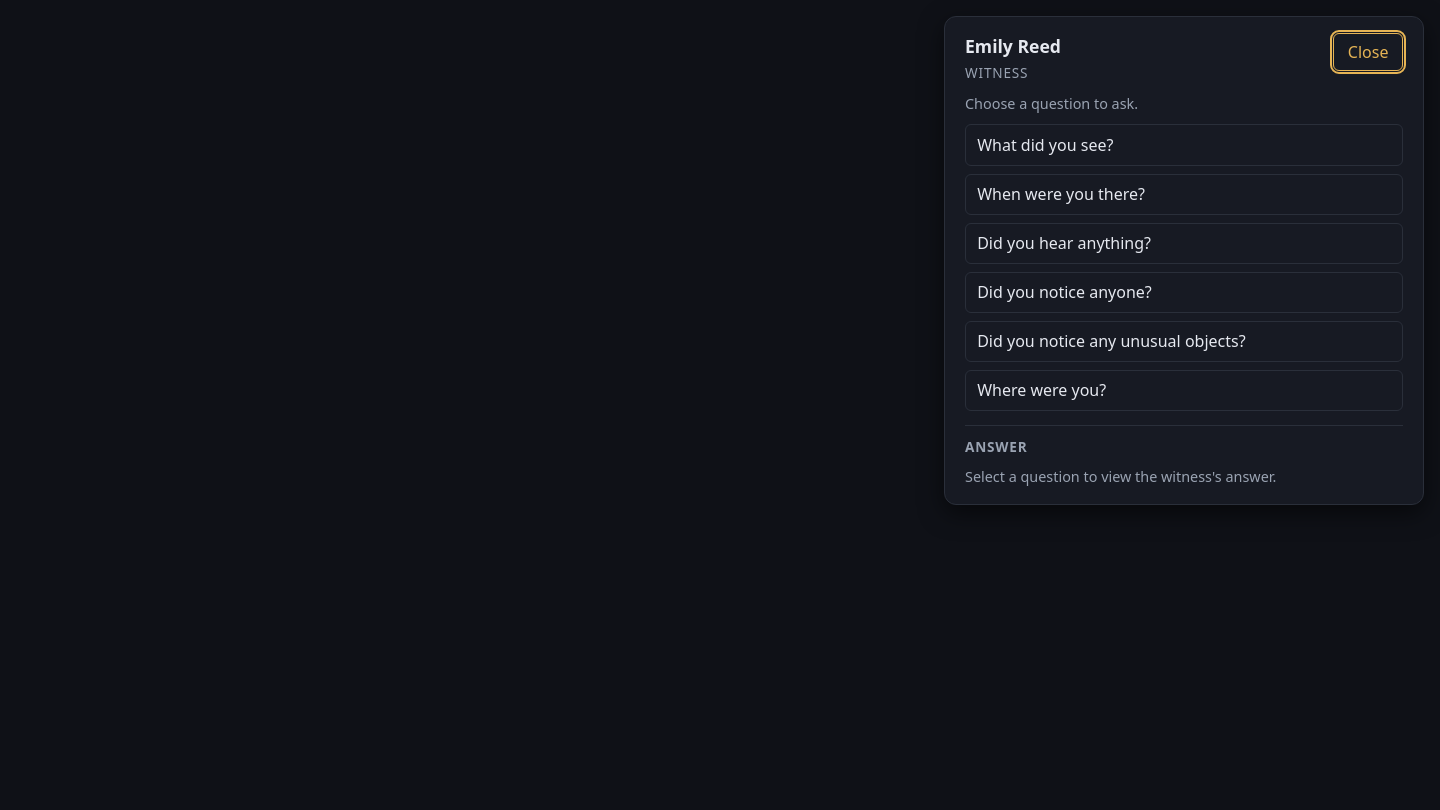
Test: WitnessPanel — interaction (jsdom) › renders the grounded statement: summary + observations with semantic <time dateTime> and compact HH:mm display
Click the button "When were you there?" at (1061, 194), box left=965, top=174, right=1403, bottom=215
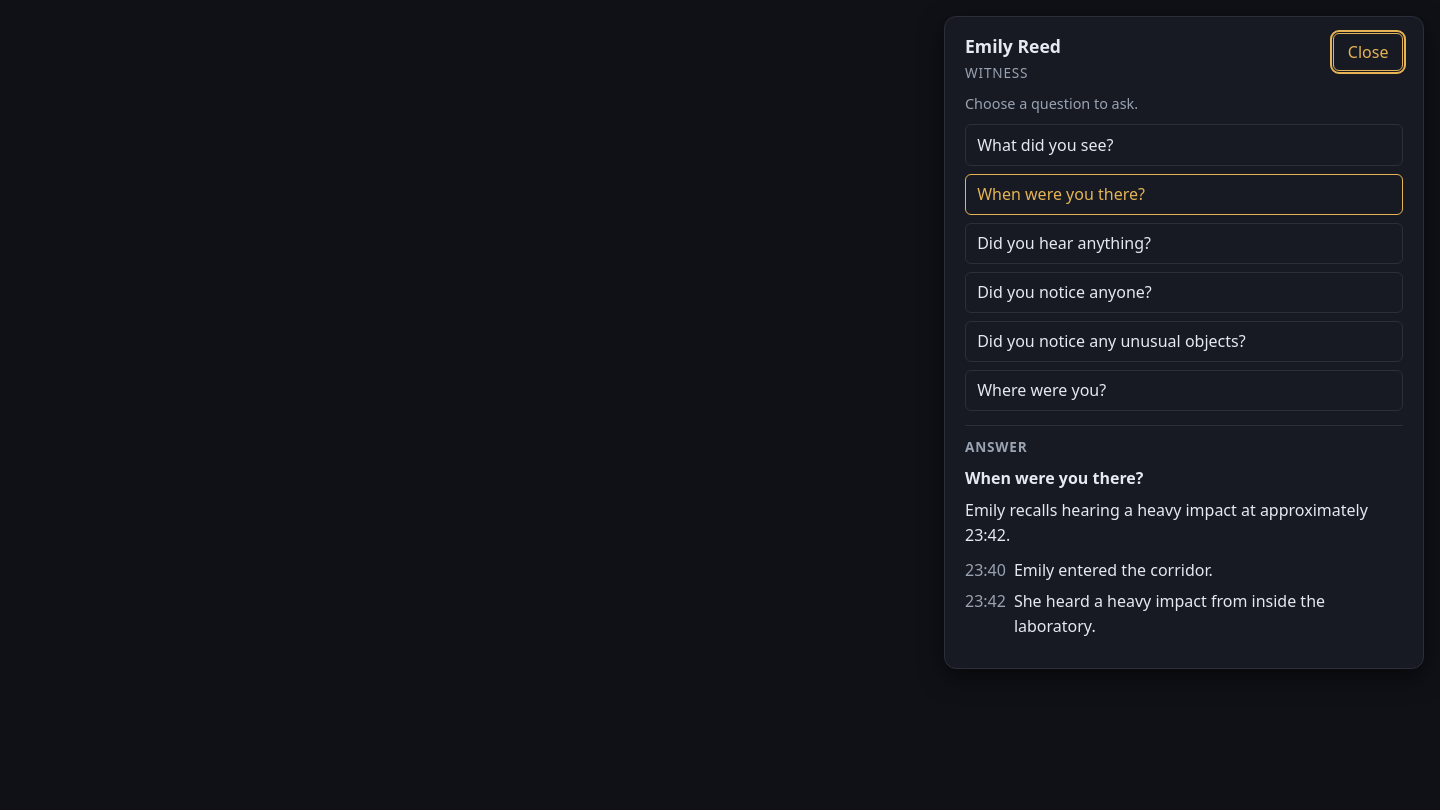
Check: the text with test id "witness-statement-summary" shows "heavy impact at approximately 23:42", box left=965, top=499, right=1368, bottom=546
Check: the text "23:40" is shown, box left=965, top=558, right=1006, bottom=582
Check: the text "23:42" is shown, box left=965, top=590, right=1006, bottom=614
